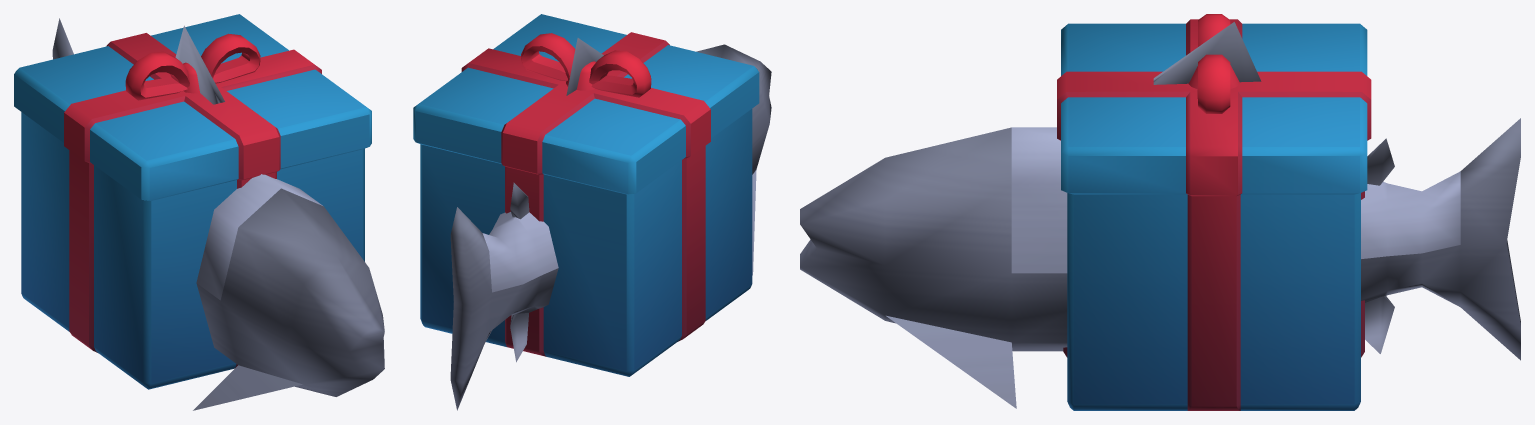
Rendered from fish_gift.glb.
The picture shows the model from 3 angles, left to right: view 1: azimuth 30°, elevation 25°; view 2: azimuth 150°, elevation 25°; view 3: azimuth 270°, elevation 25°; orthographic projection. The views are drawn at different scales.
Parts seen in each view (by area): view 1: present_D_blue, fish; view 2: present_D_blue, fish; view 3: present_D_blue, fish.
Boxes of the visible parts, x1,y1,x2,y2 form: present_D_blue: [14, 14, 371, 389]; fish: [52, 18, 384, 410]; present_D_blue: [413, 14, 759, 376]; fish: [450, 38, 771, 410]; present_D_blue: [1057, 14, 1371, 410]; fish: [800, 22, 1520, 408].
Size of the model in its own units: 0.2709 by 0.3222 by 0.6208.
2 materials, 2 textured.
